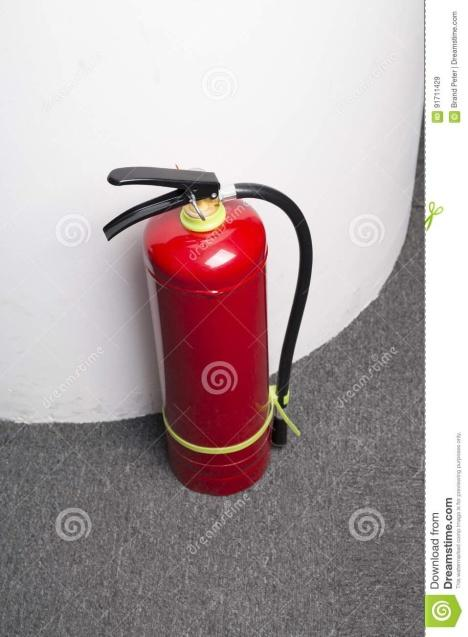APAR: (101, 167, 271, 495)
